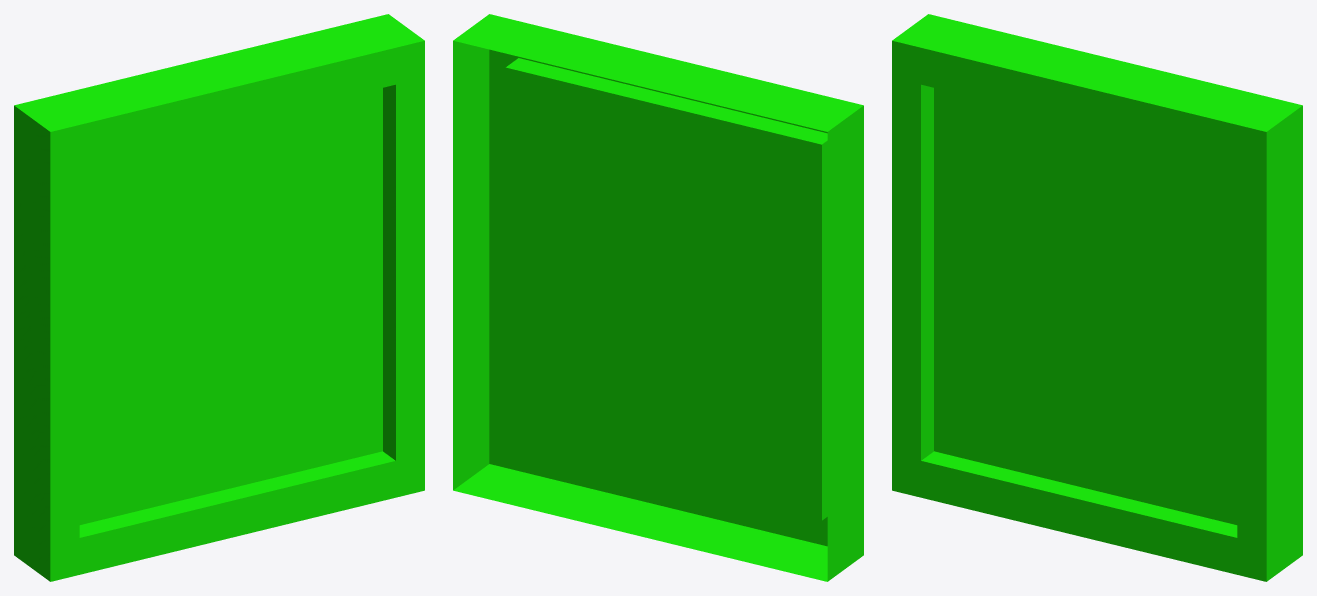
File: Apple painting.fbx
3 renders of one model, left to right at view 1: azimuth 30°, elevation 25°; view 2: azimuth 150°, elevation 25°; view 3: azimuth 330°, elevation 25°, orthographic.
Visible parts, largest first — view 1: Apple painting; view 2: Apple painting; view 3: Apple painting.
Boxes of the visible parts, x1,y1,x2,y2 form: Apple painting: (14, 14, 424, 581); Apple painting: (453, 14, 863, 581); Apple painting: (892, 14, 1302, 581).
Bounding box in the file's own units: 0.4129 × 0.4741 × 0.0696.
